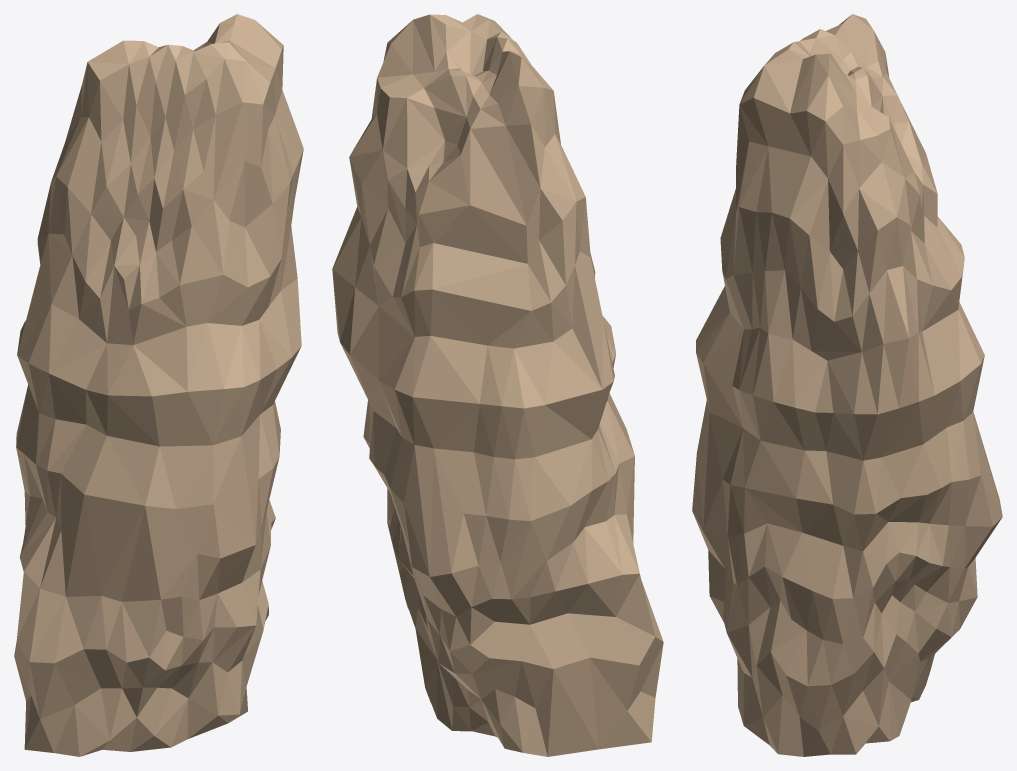
The model's file is SM_DST_Rock_Pillar_A_Frac.fbx.
The picture shows the model from 3 angles, left to right: view 1: azimuth 30°, elevation 25°; view 2: azimuth 150°, elevation 25°; view 3: azimuth 270°, elevation 25°; orthographic projection. The views are drawn at different scales.
Parts seen in each view (by area): view 1: SM_DST_Rock_Pillar_A_p03, SM_DST_Rock_Pillar_A_p02, SM_DST_Rock_Pillar_A_p00, SM_DST_Rock_Pillar_A_p01, SM_DST_Rock_Pillar_A_p04, SM_DST_Rock_Pillar_A_p05; view 2: SM_DST_Rock_Pillar_A_p04, SM_DST_Rock_Pillar_A_p03, SM_DST_Rock_Pillar_A_p05, SM_DST_Rock_Pillar_A_p01, SM_DST_Rock_Pillar_A_p02, SM_DST_Rock_Pillar_A_p00; view 3: SM_DST_Rock_Pillar_A_p05, SM_DST_Rock_Pillar_A_p03, SM_DST_Rock_Pillar_A_p02, SM_DST_Rock_Pillar_A_p00, SM_DST_Rock_Pillar_A_p04, SM_DST_Rock_Pillar_A_p01.
Part boxes in pixels (x1,y1,x2,y2): SM_DST_Rock_Pillar_A_p03: (14, 499, 275, 756); SM_DST_Rock_Pillar_A_p02: (30, 313, 301, 588); SM_DST_Rock_Pillar_A_p00: (96, 14, 302, 305); SM_DST_Rock_Pillar_A_p01: (37, 109, 299, 348); SM_DST_Rock_Pillar_A_p04: (16, 245, 222, 511); SM_DST_Rock_Pillar_A_p05: (74, 14, 303, 309); SM_DST_Rock_Pillar_A_p04: (339, 285, 622, 573); SM_DST_Rock_Pillar_A_p03: (387, 489, 663, 756); SM_DST_Rock_Pillar_A_p05: (332, 14, 556, 338); SM_DST_Rock_Pillar_A_p01: (410, 122, 595, 319); SM_DST_Rock_Pillar_A_p02: (363, 315, 634, 552); SM_DST_Rock_Pillar_A_p00: (430, 14, 558, 123); SM_DST_Rock_Pillar_A_p05: (760, 14, 964, 417); SM_DST_Rock_Pillar_A_p03: (702, 500, 1002, 756); SM_DST_Rock_Pillar_A_p02: (692, 309, 964, 567); SM_DST_Rock_Pillar_A_p00: (720, 16, 849, 325); SM_DST_Rock_Pillar_A_p04: (713, 294, 999, 511); SM_DST_Rock_Pillar_A_p01: (715, 286, 960, 366).
Size of the model in its own units: 1.02 by 2.29 by 0.9104.
